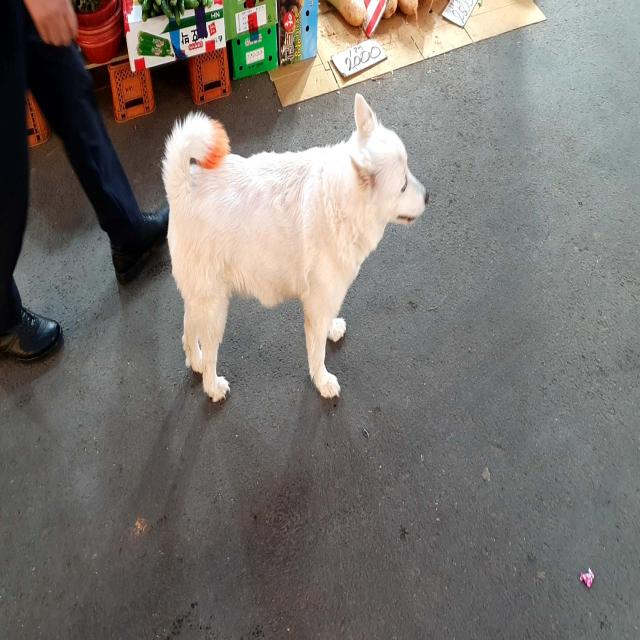Dog: (162, 92, 429, 403)
